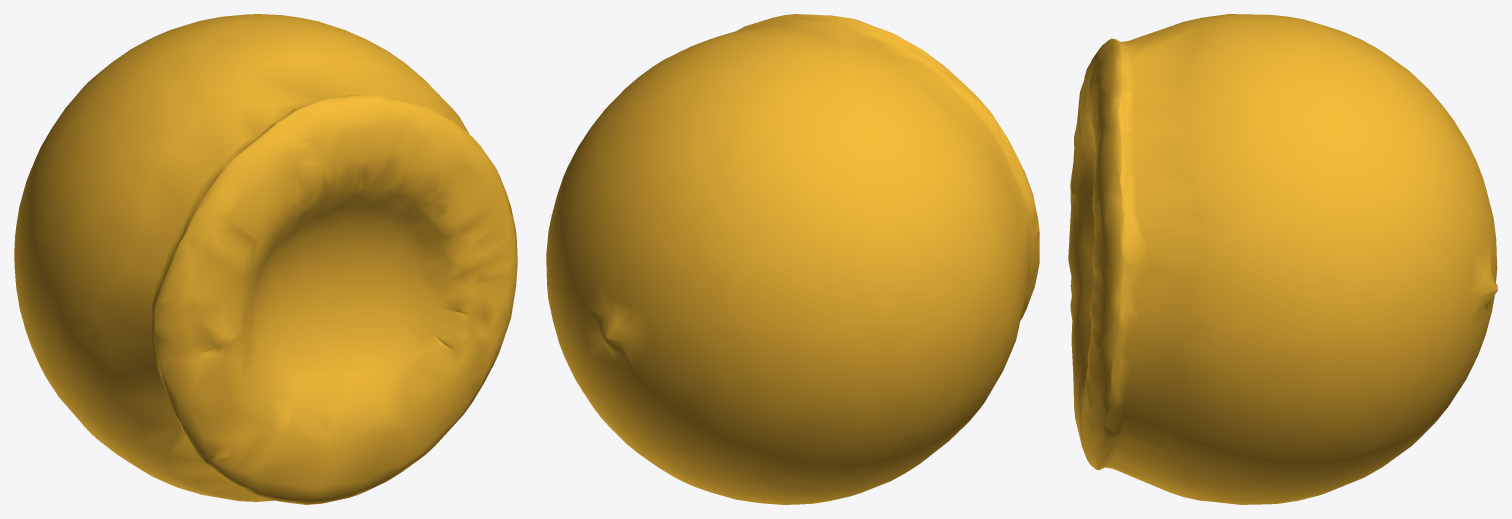
The model's file is nervoso-vitreous-body-l.glb.
The picture shows the model from 3 angles, left to right: view 1: azimuth 30°, elevation 25°; view 2: azimuth 150°, elevation 25°; view 3: azimuth 270°, elevation 25°; orthographic projection. The views are drawn at different scales.
Parts seen in each view (by area): view 1: Vitreous body.l; view 2: Vitreous body.l; view 3: Vitreous body.l.
Boxes of the visible parts, left/top/right/bottom form: Vitreous body.l: left=14, top=14, right=517, bottom=504; Vitreous body.l: left=546, top=14, right=1039, bottom=504; Vitreous body.l: left=1068, top=14, right=1497, bottom=504.
Bounding box in the file's own units: 0.0204 × 0.0203 × 0.0177.
